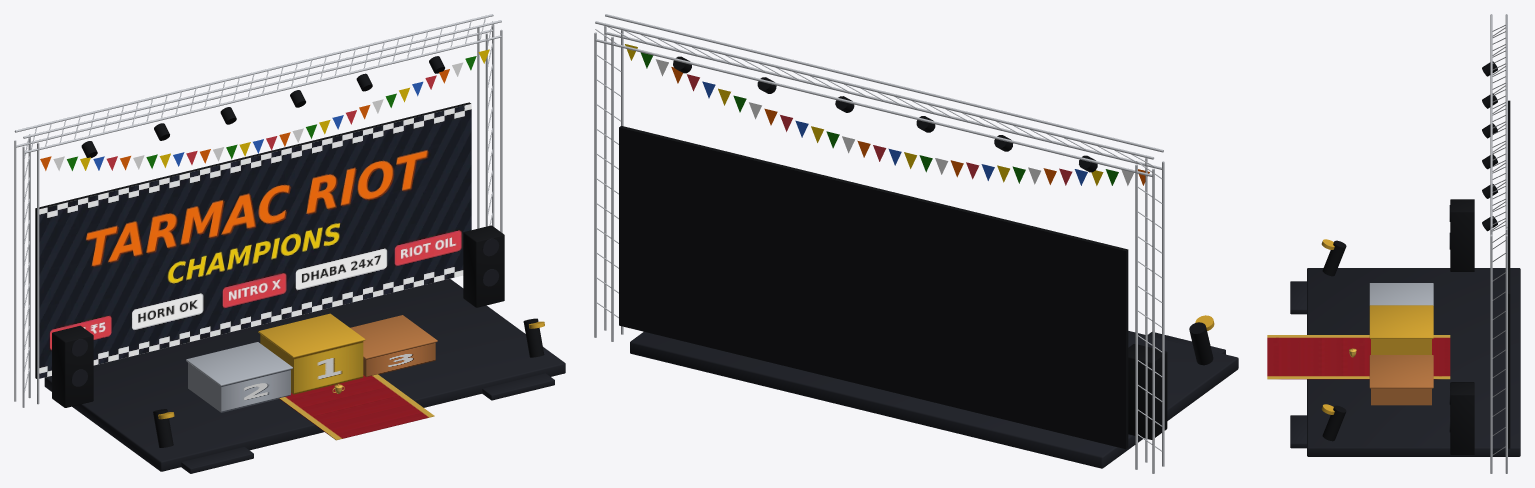
File: podium.glb
3 views of the same model, side by side, from view 1: azimuth 30°, elevation 25°; view 2: azimuth 150°, elevation 25°; view 3: azimuth 270°, elevation 25° (orthographic). The views are drawn at different scales.
Visible parts, largest first — view 1: podium_PodBlack, podium_PodStage, podium_PodTruss, podium_PodTop1, podium_PodCarpet, podium_PodTop2, podium_PodTop3; view 2: podium_PodBlack, podium_PodStage, podium_PodTruss, podium_Bunt2, podium_Bunt1, podium_Bunt3, podium_Bunt0; view 3: podium_PodStage, podium_PodBlack, podium_PodCarpet, podium_PodTruss, podium_PodTop1, podium_PodTop3, podium_PodTop2.
Boxes of the visible parts, x1,y1,x2,y2 form: podium_PodBlack: (35, 56, 544, 447); podium_PodStage: (44, 238, 565, 473); podium_PodTruss: (14, 14, 502, 407); podium_PodTop1: (158, 313, 544, 419); podium_PodCarpet: (279, 374, 434, 440); podium_PodTop2: (186, 342, 292, 412); podium_PodTop3: (350, 315, 437, 376); podium_PodBlack: (619, 56, 1213, 449); podium_PodStage: (630, 331, 1238, 468); podium_PodTruss: (594, 14, 1164, 473); podium_Bunt2: (640, 52, 1118, 185); podium_Bunt1: (655, 59, 1133, 185); podium_Bunt3: (625, 44, 1103, 185); podium_Bunt0: (671, 67, 1149, 185); podium_PodStage: (1290, 205, 1520, 456); podium_PodBlack: (1322, 61, 1510, 454); podium_PodCarpet: (1267, 335, 1450, 379); podium_PodTruss: (1490, 14, 1507, 473); podium_PodTop1: (1321, 239, 1433, 414); podium_PodTop3: (1369, 355, 1433, 405); podium_PodTop2: (1369, 283, 1433, 305).
Size of the model in its own units: 16.57 by 8.94 by 8.3.
Materials: 20 (5 with a texture image).
